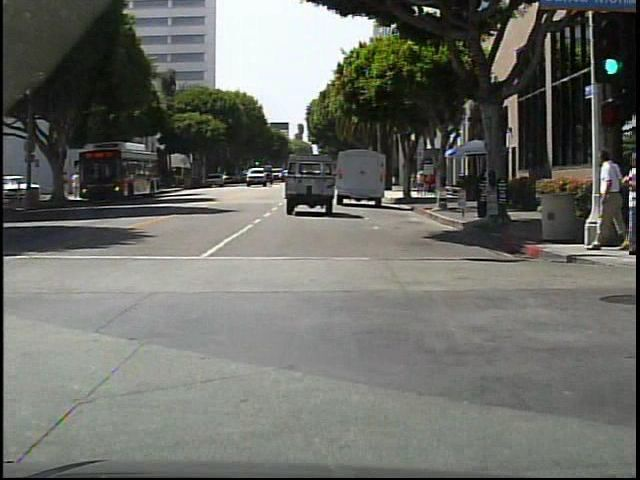person: (587, 149, 628, 251), (609, 155, 640, 254), (73, 171, 83, 199), (64, 172, 73, 200), (418, 171, 427, 198), (412, 168, 420, 198)
